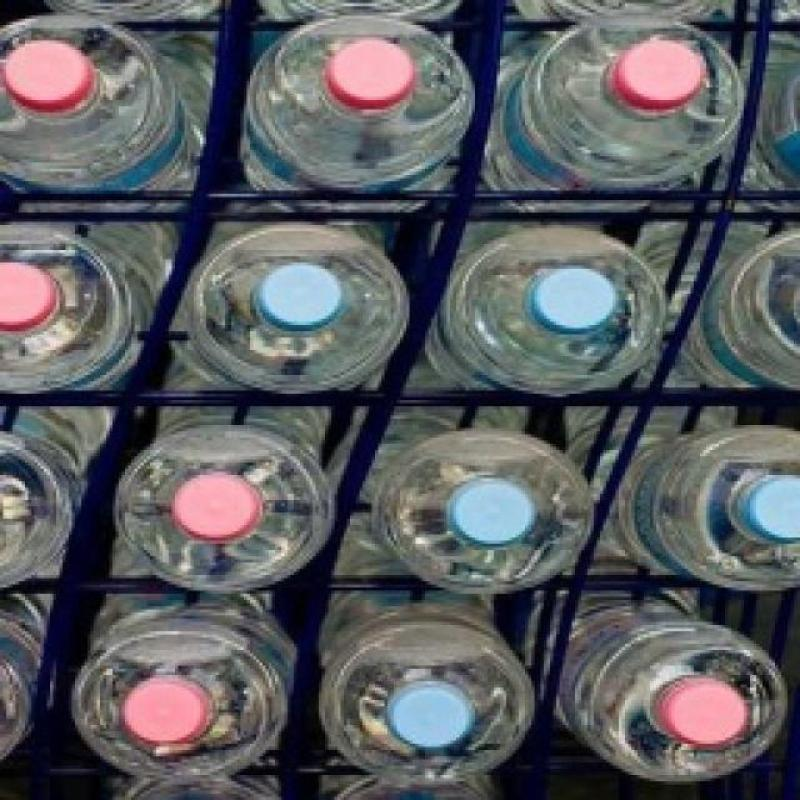botella: (523, 576, 789, 786), (474, 10, 754, 204), (565, 397, 800, 588), (316, 582, 536, 786), (110, 401, 338, 592), (246, 10, 476, 196), (422, 225, 666, 397), (73, 595, 296, 783), (176, 220, 412, 395), (360, 430, 590, 596), (2, 15, 196, 187), (0, 224, 148, 390), (669, 222, 800, 407), (0, 417, 75, 589), (734, 35, 800, 191), (0, 588, 48, 760), (325, 762, 497, 800), (117, 775, 283, 800), (40, 0, 225, 22), (512, 0, 746, 15), (249, 0, 465, 15)
